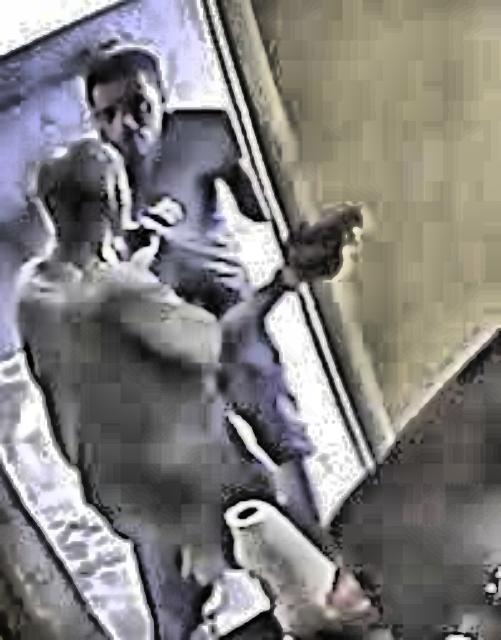pistol: (274, 202, 360, 292)
